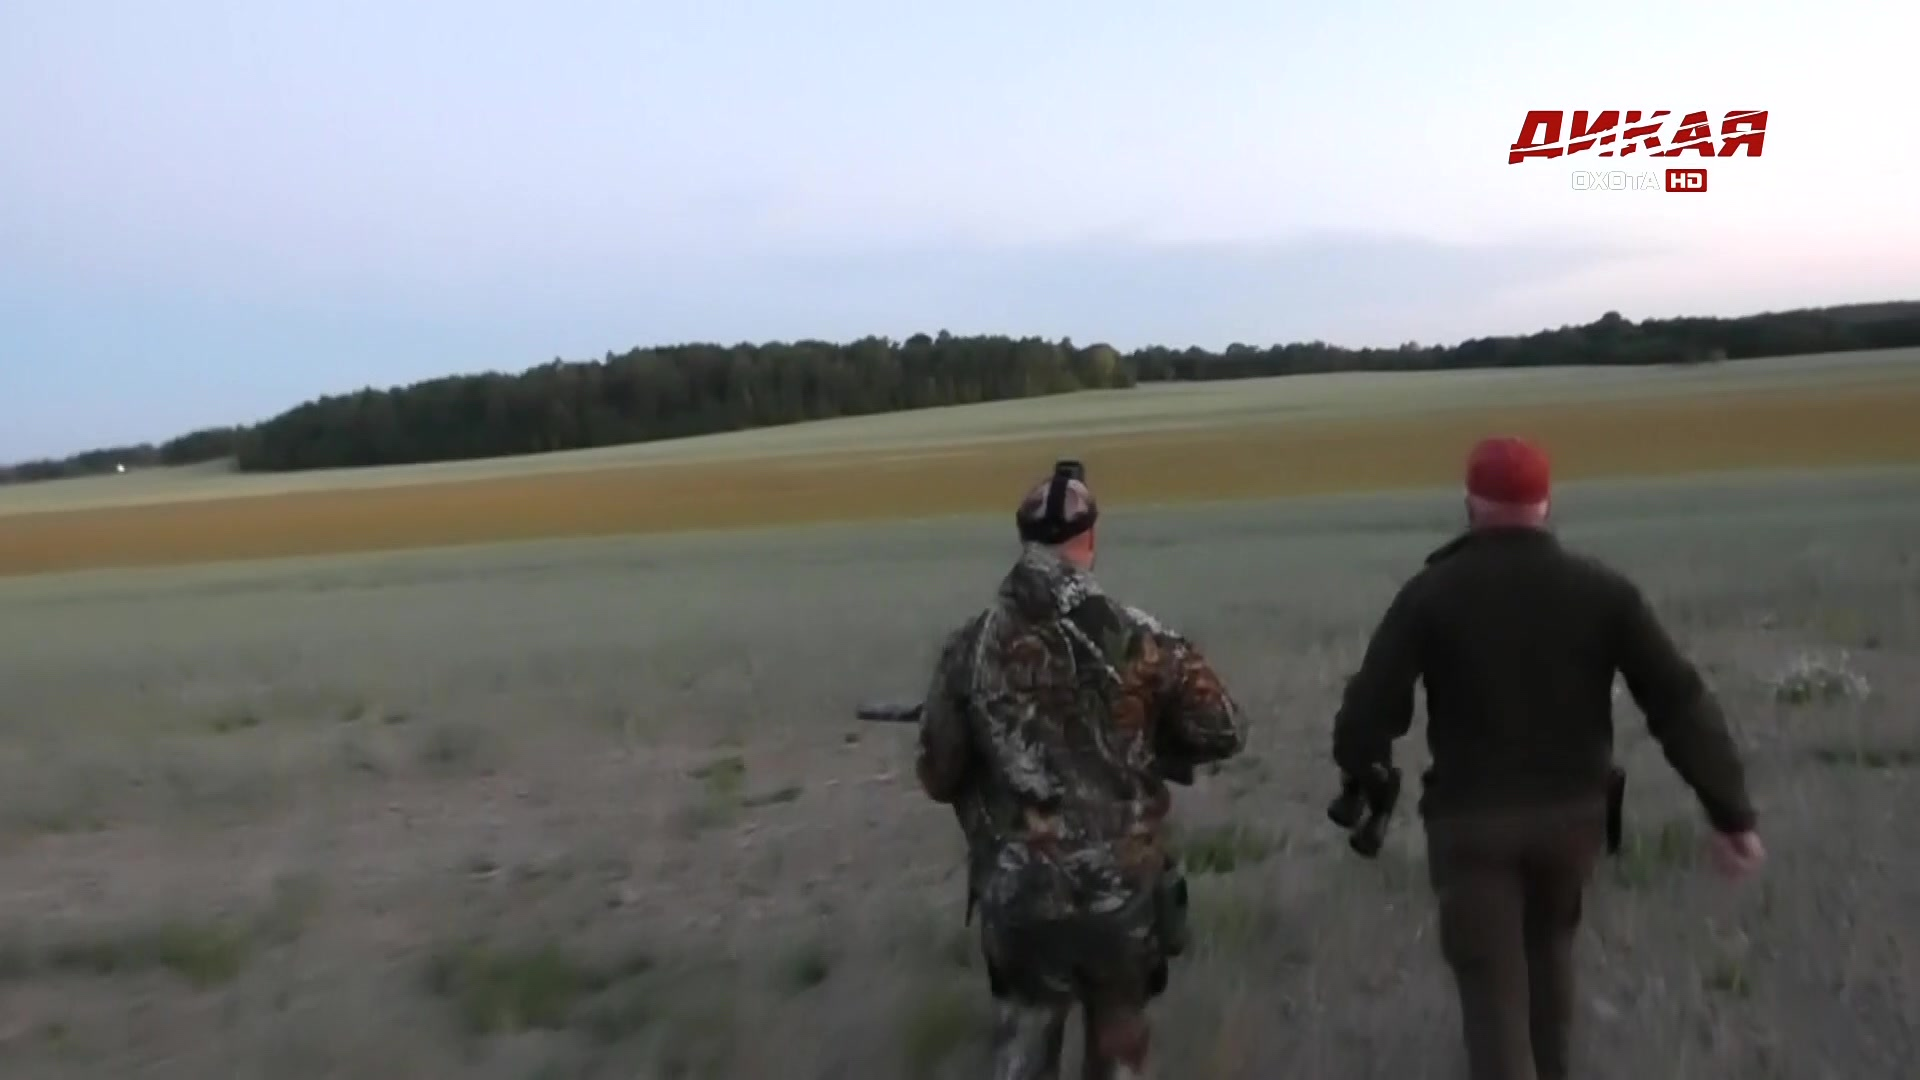Dikaya_Ohota_HD: (1503, 105, 1778, 196)
